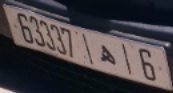3: (28, 15, 45, 48), (50, 22, 66, 56), (39, 18, 55, 51)
6: (139, 48, 157, 81), (16, 12, 33, 44)
7: (60, 26, 75, 57)
h: (96, 43, 118, 66)
